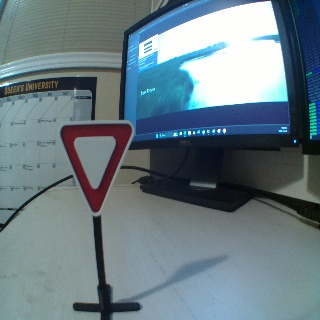sign_yield: (57, 122, 138, 214)
